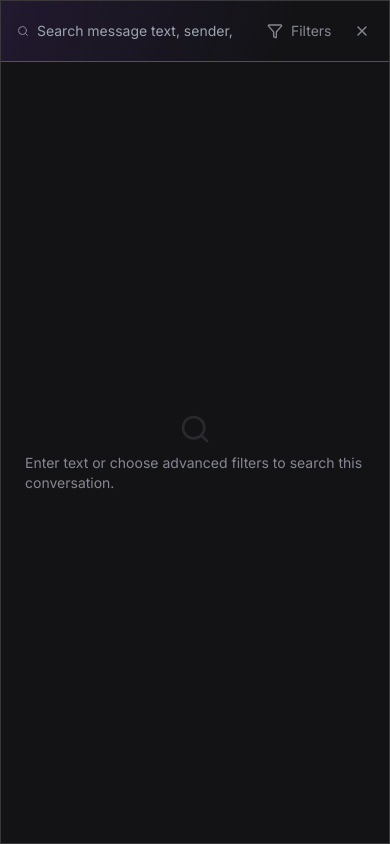
Test: MessageSearch › keeps basic text search available to Free users and prompts only for filters
Type "final mix" into the search field named "Search messages" at point(142, 31), box x1=37 y1=21 x2=247 y2=41
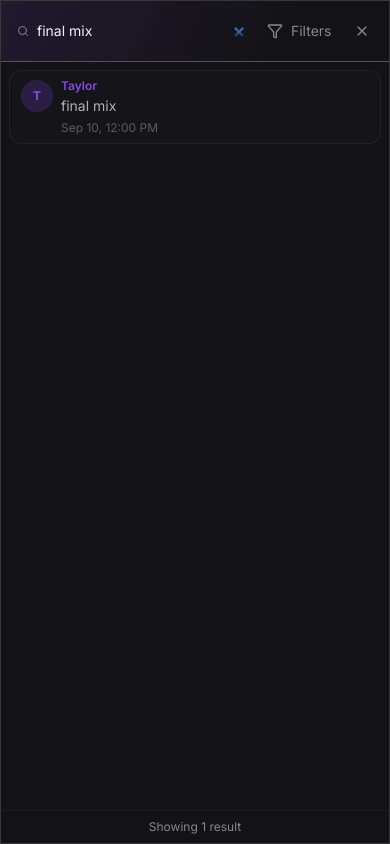
Now the text "final mix" is shown, box x1=61 y1=97 x2=116 y2=114
Click the button "Filters" at point(299, 31), box x1=255 y1=13 x2=344 y2=49
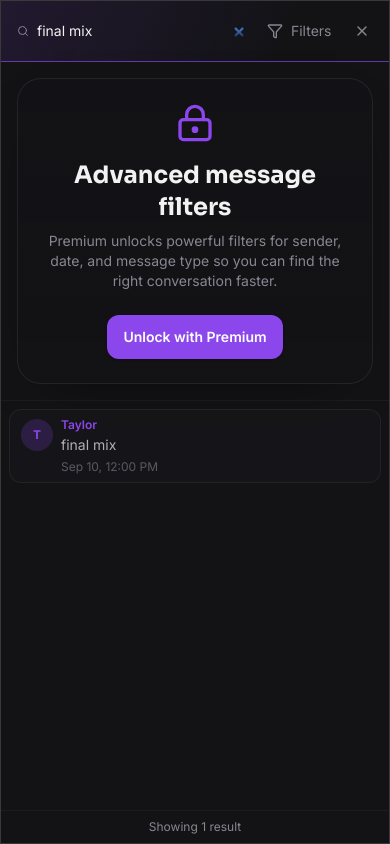
Now the heading "Advanced message filters" is shown, box x1=74 y1=160 x2=316 y2=222
Now the text "find the right conversation faster" is shown, box x1=49 y1=232 x2=341 y2=289
